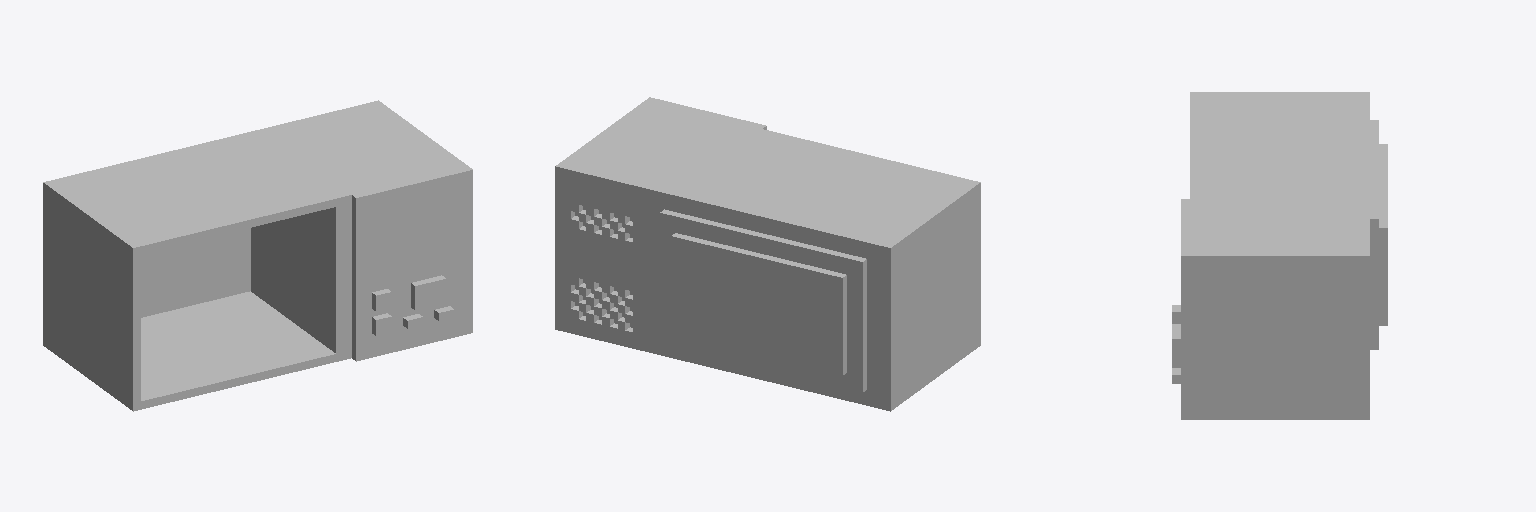
The model's file is KitchenOPEN_Export-3.obj.
3 views of the same model, side by side, from view 1: azimuth 30°, elevation 25°; view 2: azimuth 150°, elevation 25°; view 3: azimuth 270°, elevation 25° (orthographic).
Visible parts, largest first — view 1: KitchenOPEN_Export-3; view 2: KitchenOPEN_Export-3; view 3: KitchenOPEN_Export-3.
Part boxes in pixels (left/top/right/bottom): KitchenOPEN_Export-3: left=43, top=100, right=472, bottom=411; KitchenOPEN_Export-3: left=555, top=97, right=980, bottom=411; KitchenOPEN_Export-3: left=1172, top=92, right=1387, bottom=419.
Size of the model in its own units: 43 by 20 by 24.